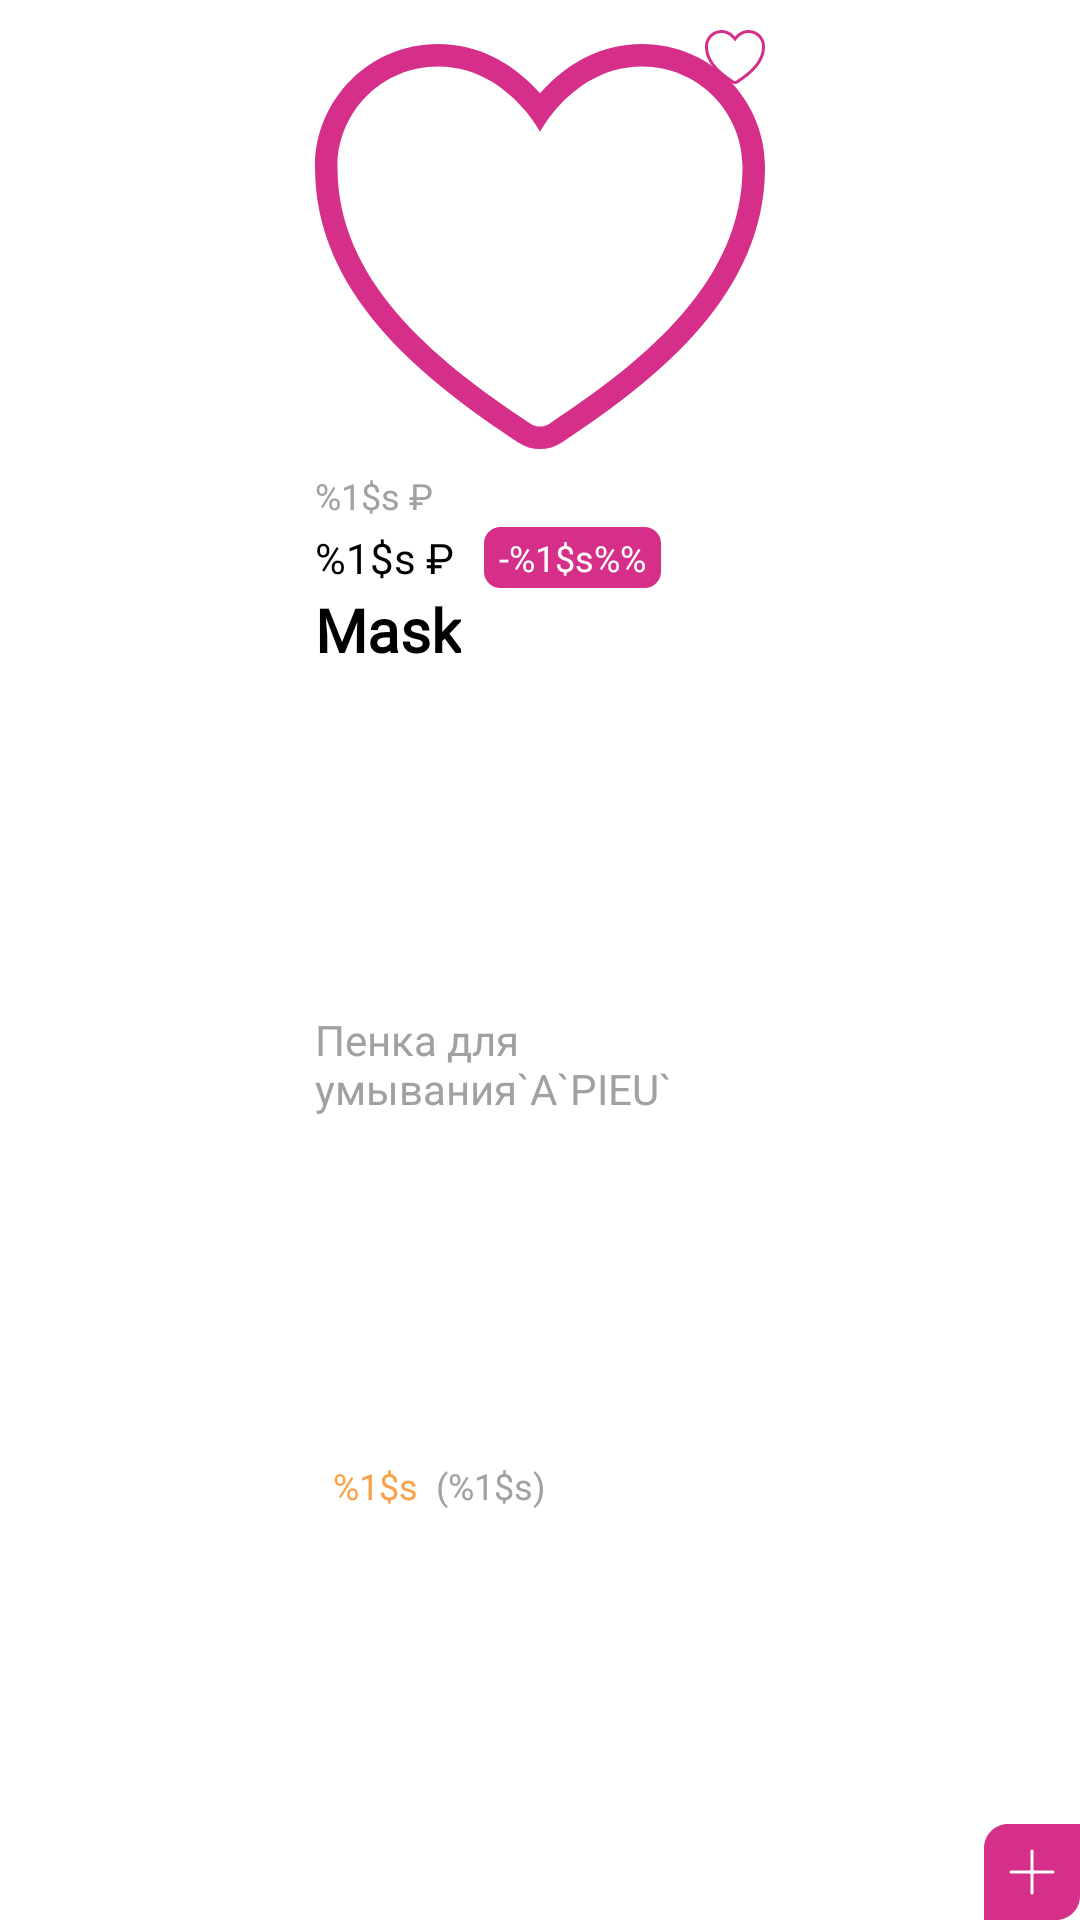

Screen size 1080*1920. Icon name, then its box in pixels as (x1, y1, x2, y2):
add: (984, 1824, 1080, 1920)
